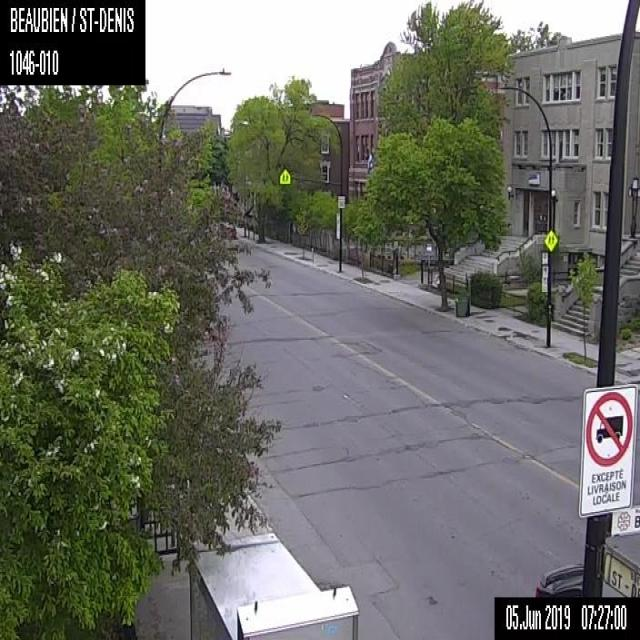vehicle: (532, 561, 583, 596)
